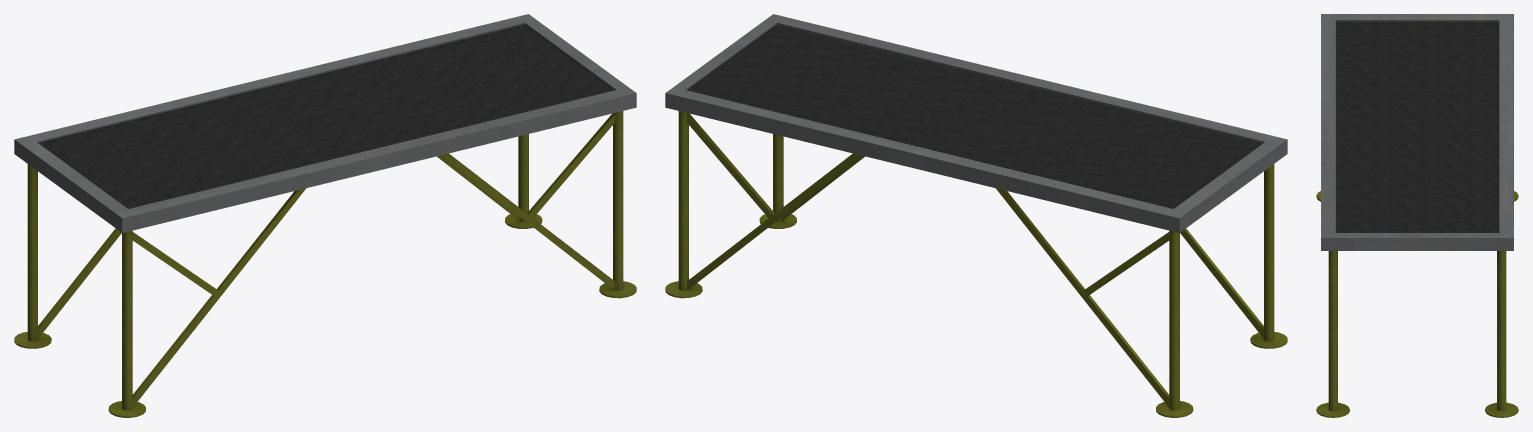
File: platform.fbx
3 renders of one model, left to right at view 1: azimuth 30°, elevation 25°; view 2: azimuth 150°, elevation 25°; view 3: azimuth 270°, elevation 25°, orthographic. The views are drawn at different scales.
Parts seen in each view (by area): view 1: platform; view 2: platform; view 3: platform.
Boxes of the visible parts, left/top/right/bottom form: platform: left=14, top=14, right=636, bottom=417; platform: left=665, top=14, right=1287, bottom=417; platform: left=1316, top=14, right=1518, bottom=417.
Bounding box in the file's own units: 2240 × 815 × 840.
